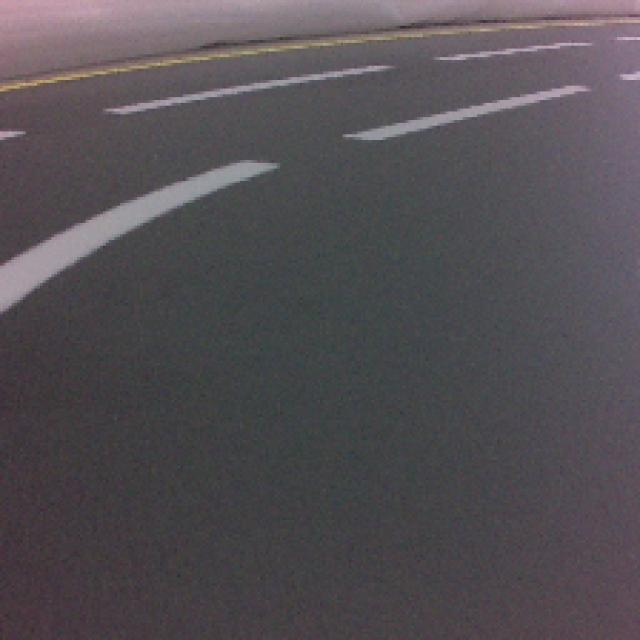Road: (0, 264, 640, 638)
